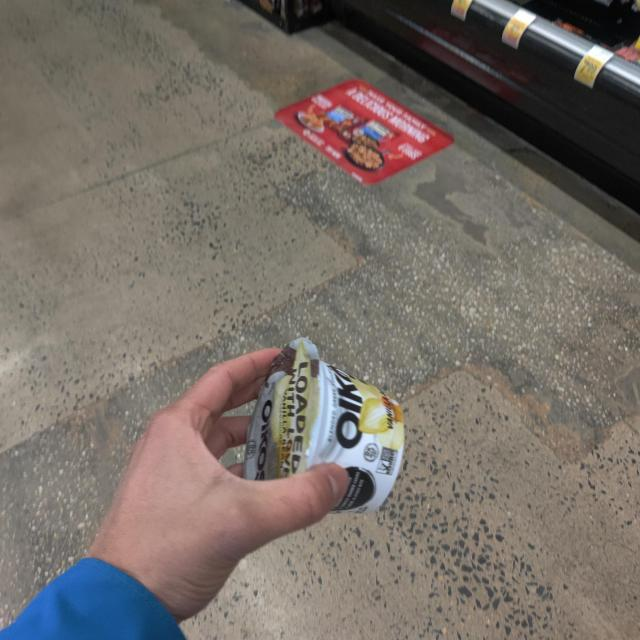Yogurt: (242, 342, 408, 516)
